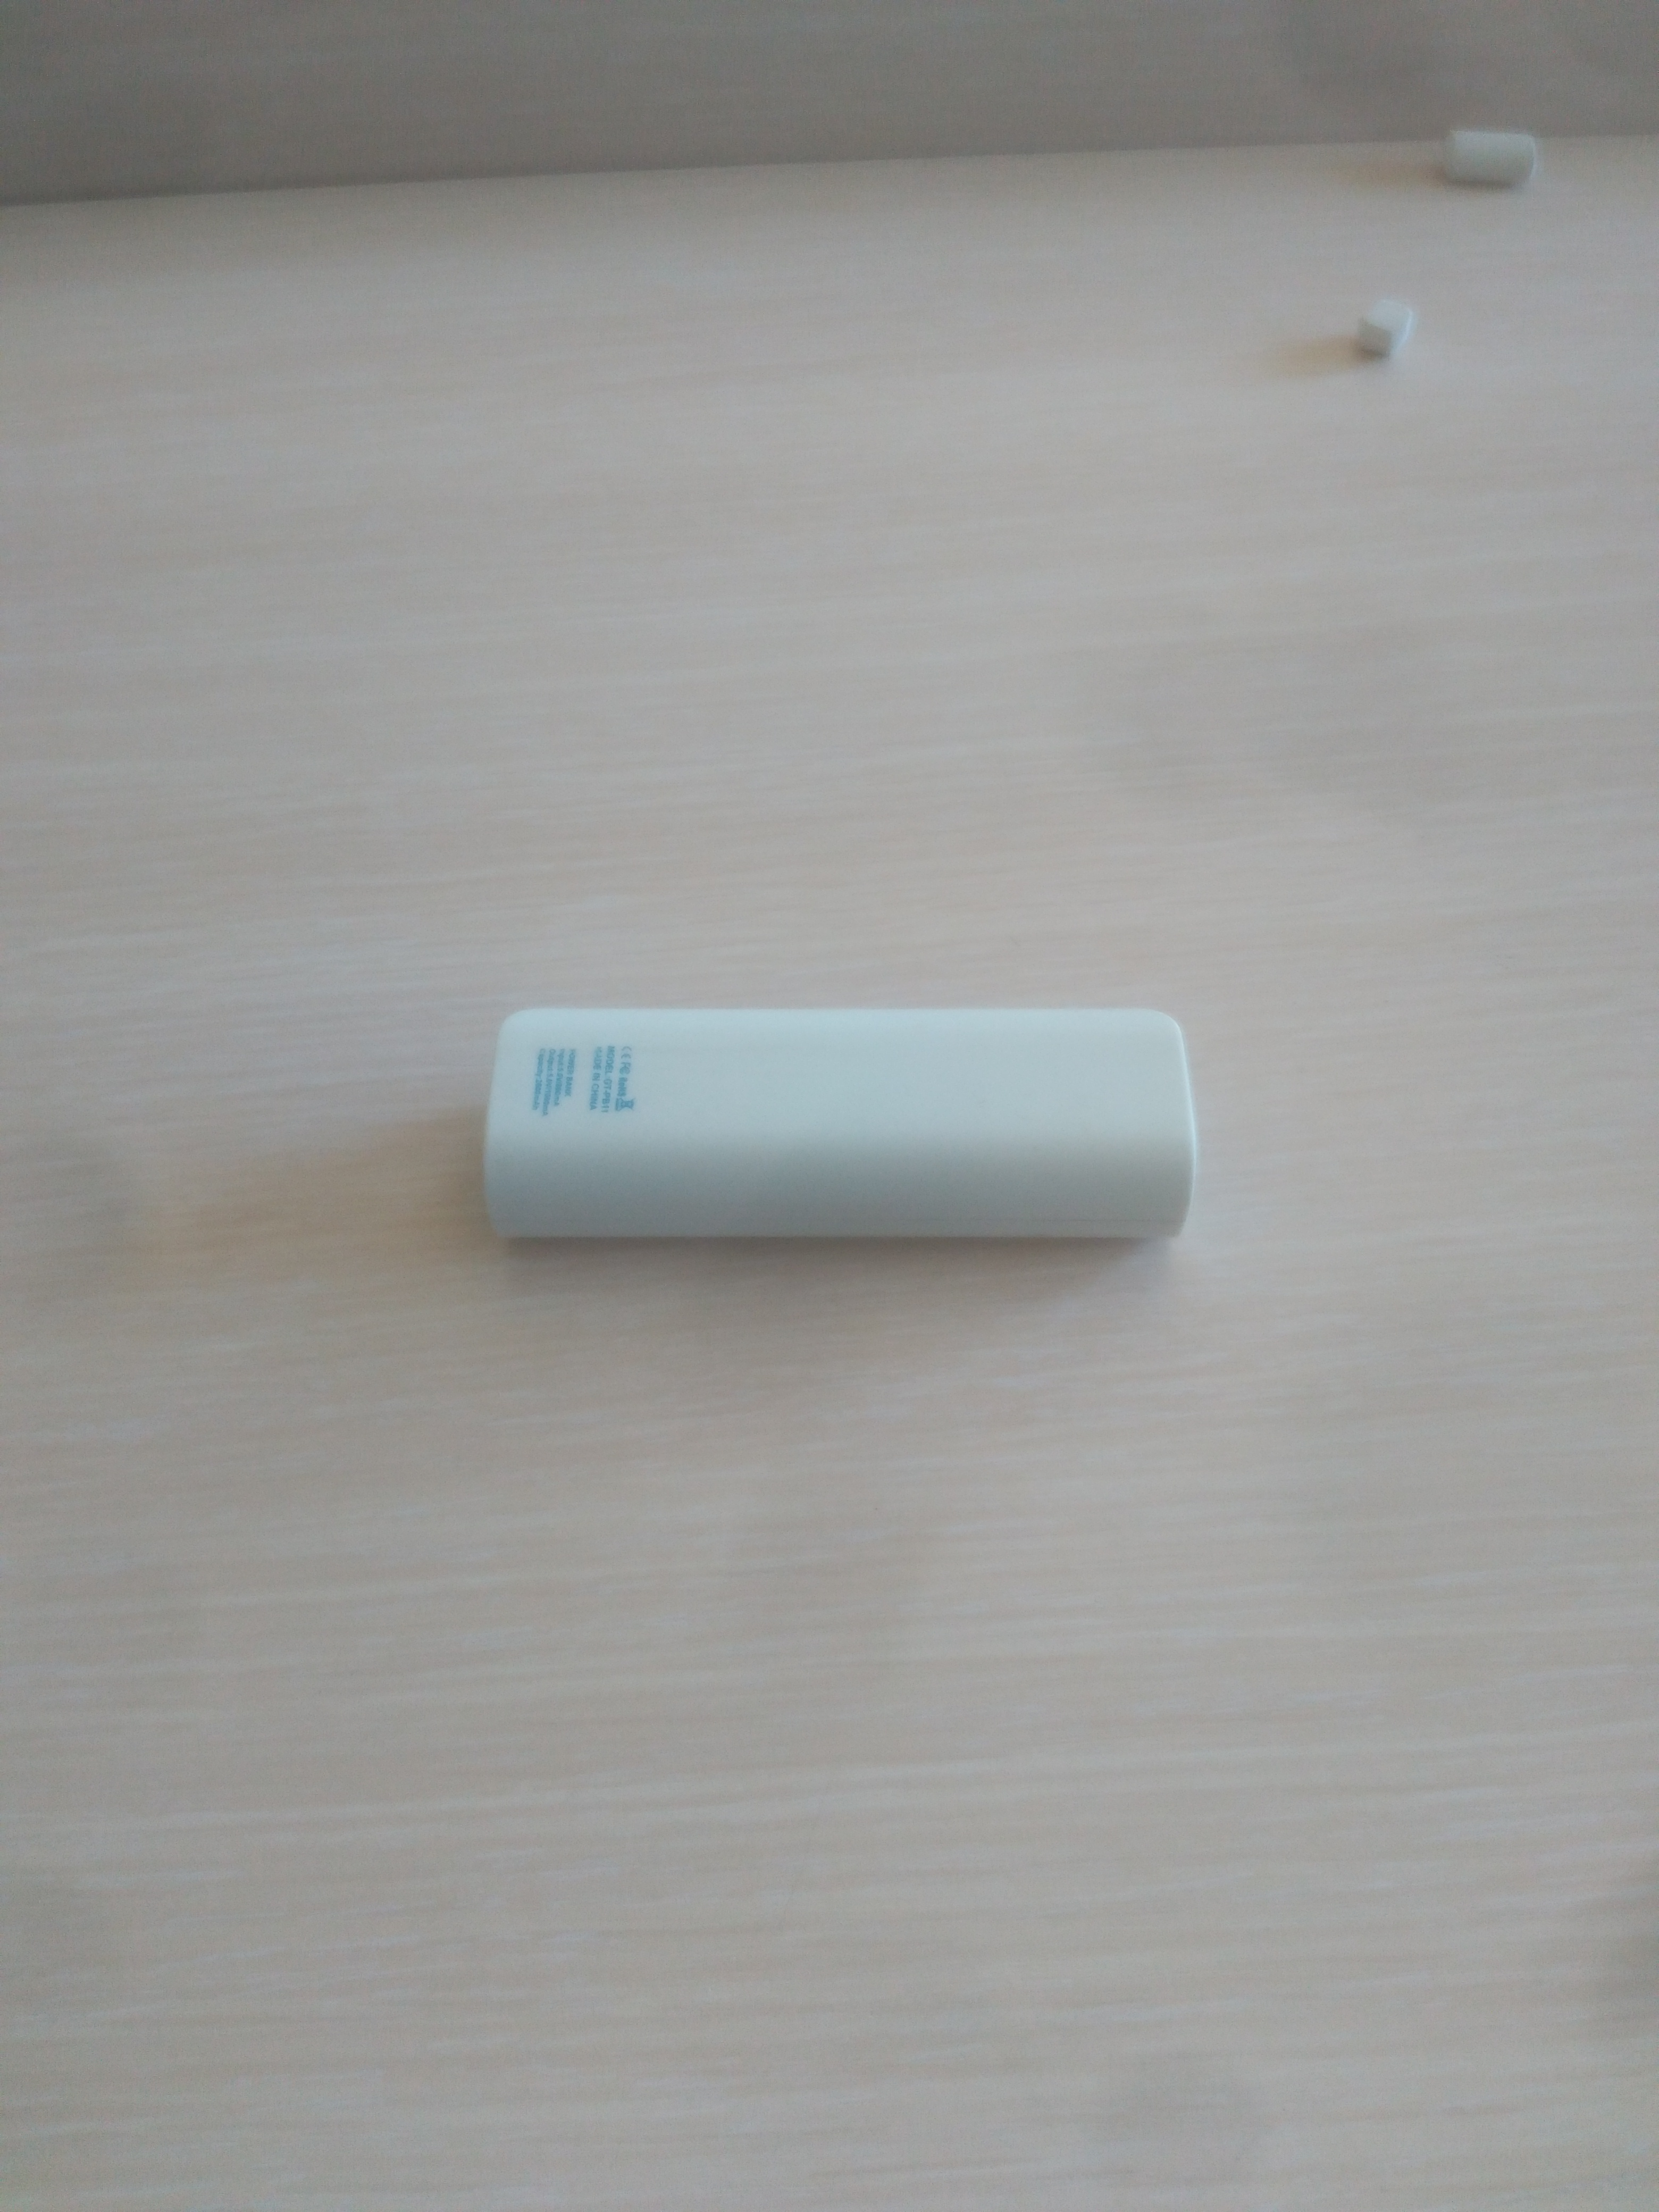powerbank: (469, 993, 1209, 1259)
